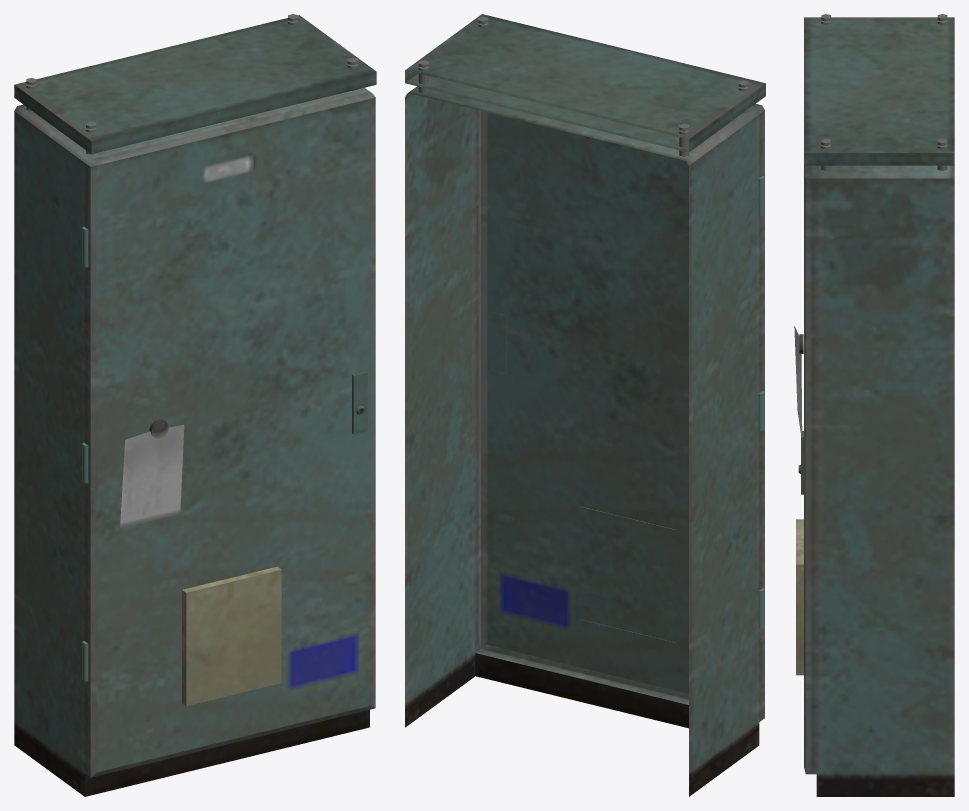
File: sm22_021_switchbox03a.fbx
3 renders of one model, left to right at view 1: azimuth 30°, elevation 25°; view 2: azimuth 150°, elevation 25°; view 3: azimuth 270°, elevation 25°, orthographic. The views are drawn at different scales.
Parts seen in each view (by area): view 1: LOD_1_Group_0_Sub_1__sm22_021_SwitchBox03A_A_Mat; view 2: LOD_1_Group_0_Sub_1__sm22_021_SwitchBox03A_A_Mat; view 3: LOD_1_Group_0_Sub_1__sm22_021_SwitchBox03A_A_Mat.
Part boxes in pixels (x1,y1,x2,y2): LOD_1_Group_0_Sub_1__sm22_021_SwitchBox03A_A_Mat: [14, 14, 376, 796]; LOD_1_Group_0_Sub_1__sm22_021_SwitchBox03A_A_Mat: [405, 14, 765, 796]; LOD_1_Group_0_Sub_1__sm22_021_SwitchBox03A_A_Mat: [794, 14, 954, 796].
Size of the model in its own units: 0.9597 by 2.12 by 0.473.
